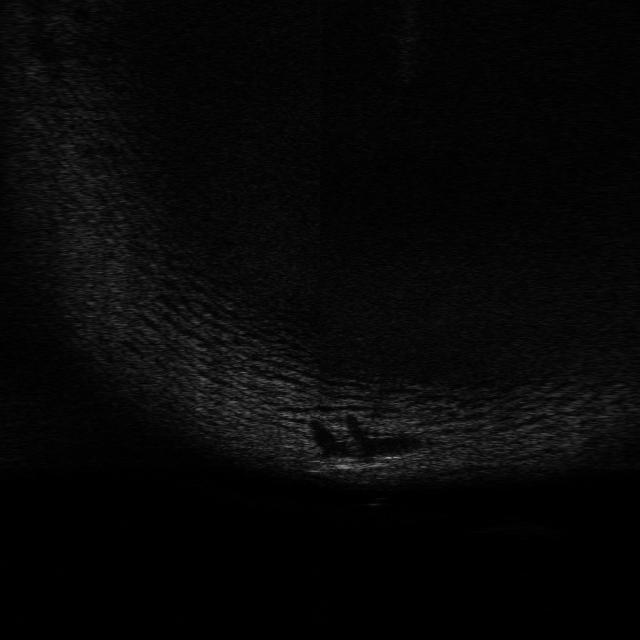plane: (311, 453, 397, 477)
